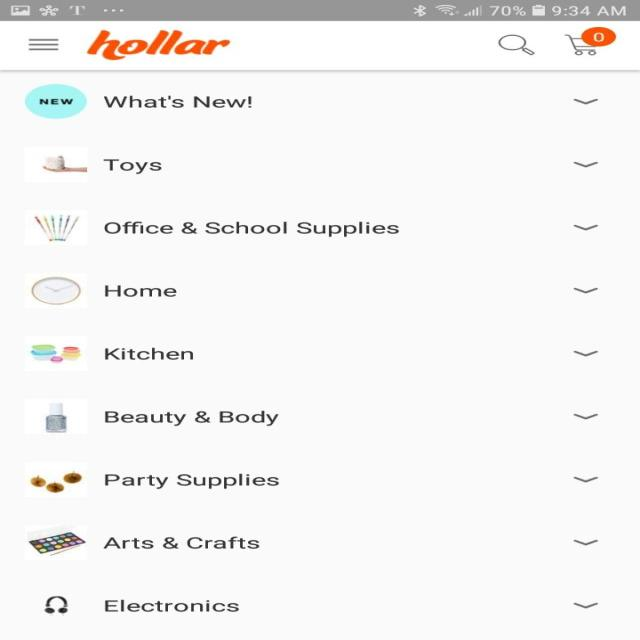Icon: (564, 28, 616, 56), (496, 34, 534, 54), (28, 38, 58, 51), (572, 98, 598, 105), (572, 602, 598, 608), (572, 539, 598, 545), (572, 476, 598, 482), (572, 413, 598, 419), (572, 162, 598, 168), (572, 351, 598, 356), (572, 288, 598, 293), (572, 225, 598, 230)
Image: (86, 30, 230, 60), (24, 398, 86, 434), (26, 272, 88, 308), (24, 524, 86, 559), (26, 210, 88, 245), (26, 147, 88, 182), (26, 462, 88, 496), (24, 336, 86, 370), (44, 596, 68, 616)
Text: (104, 221, 399, 237), (104, 473, 279, 489), (104, 410, 279, 426), (103, 536, 260, 548), (103, 96, 252, 108), (104, 599, 239, 611), (105, 347, 194, 359), (102, 159, 162, 174), (104, 284, 177, 296)
TextButton: (24, 84, 86, 118)
